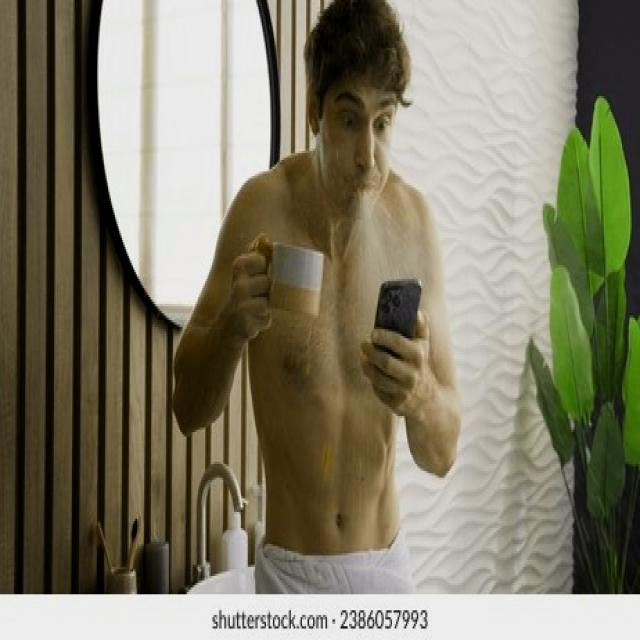Spitting: (263, 0, 427, 262)
